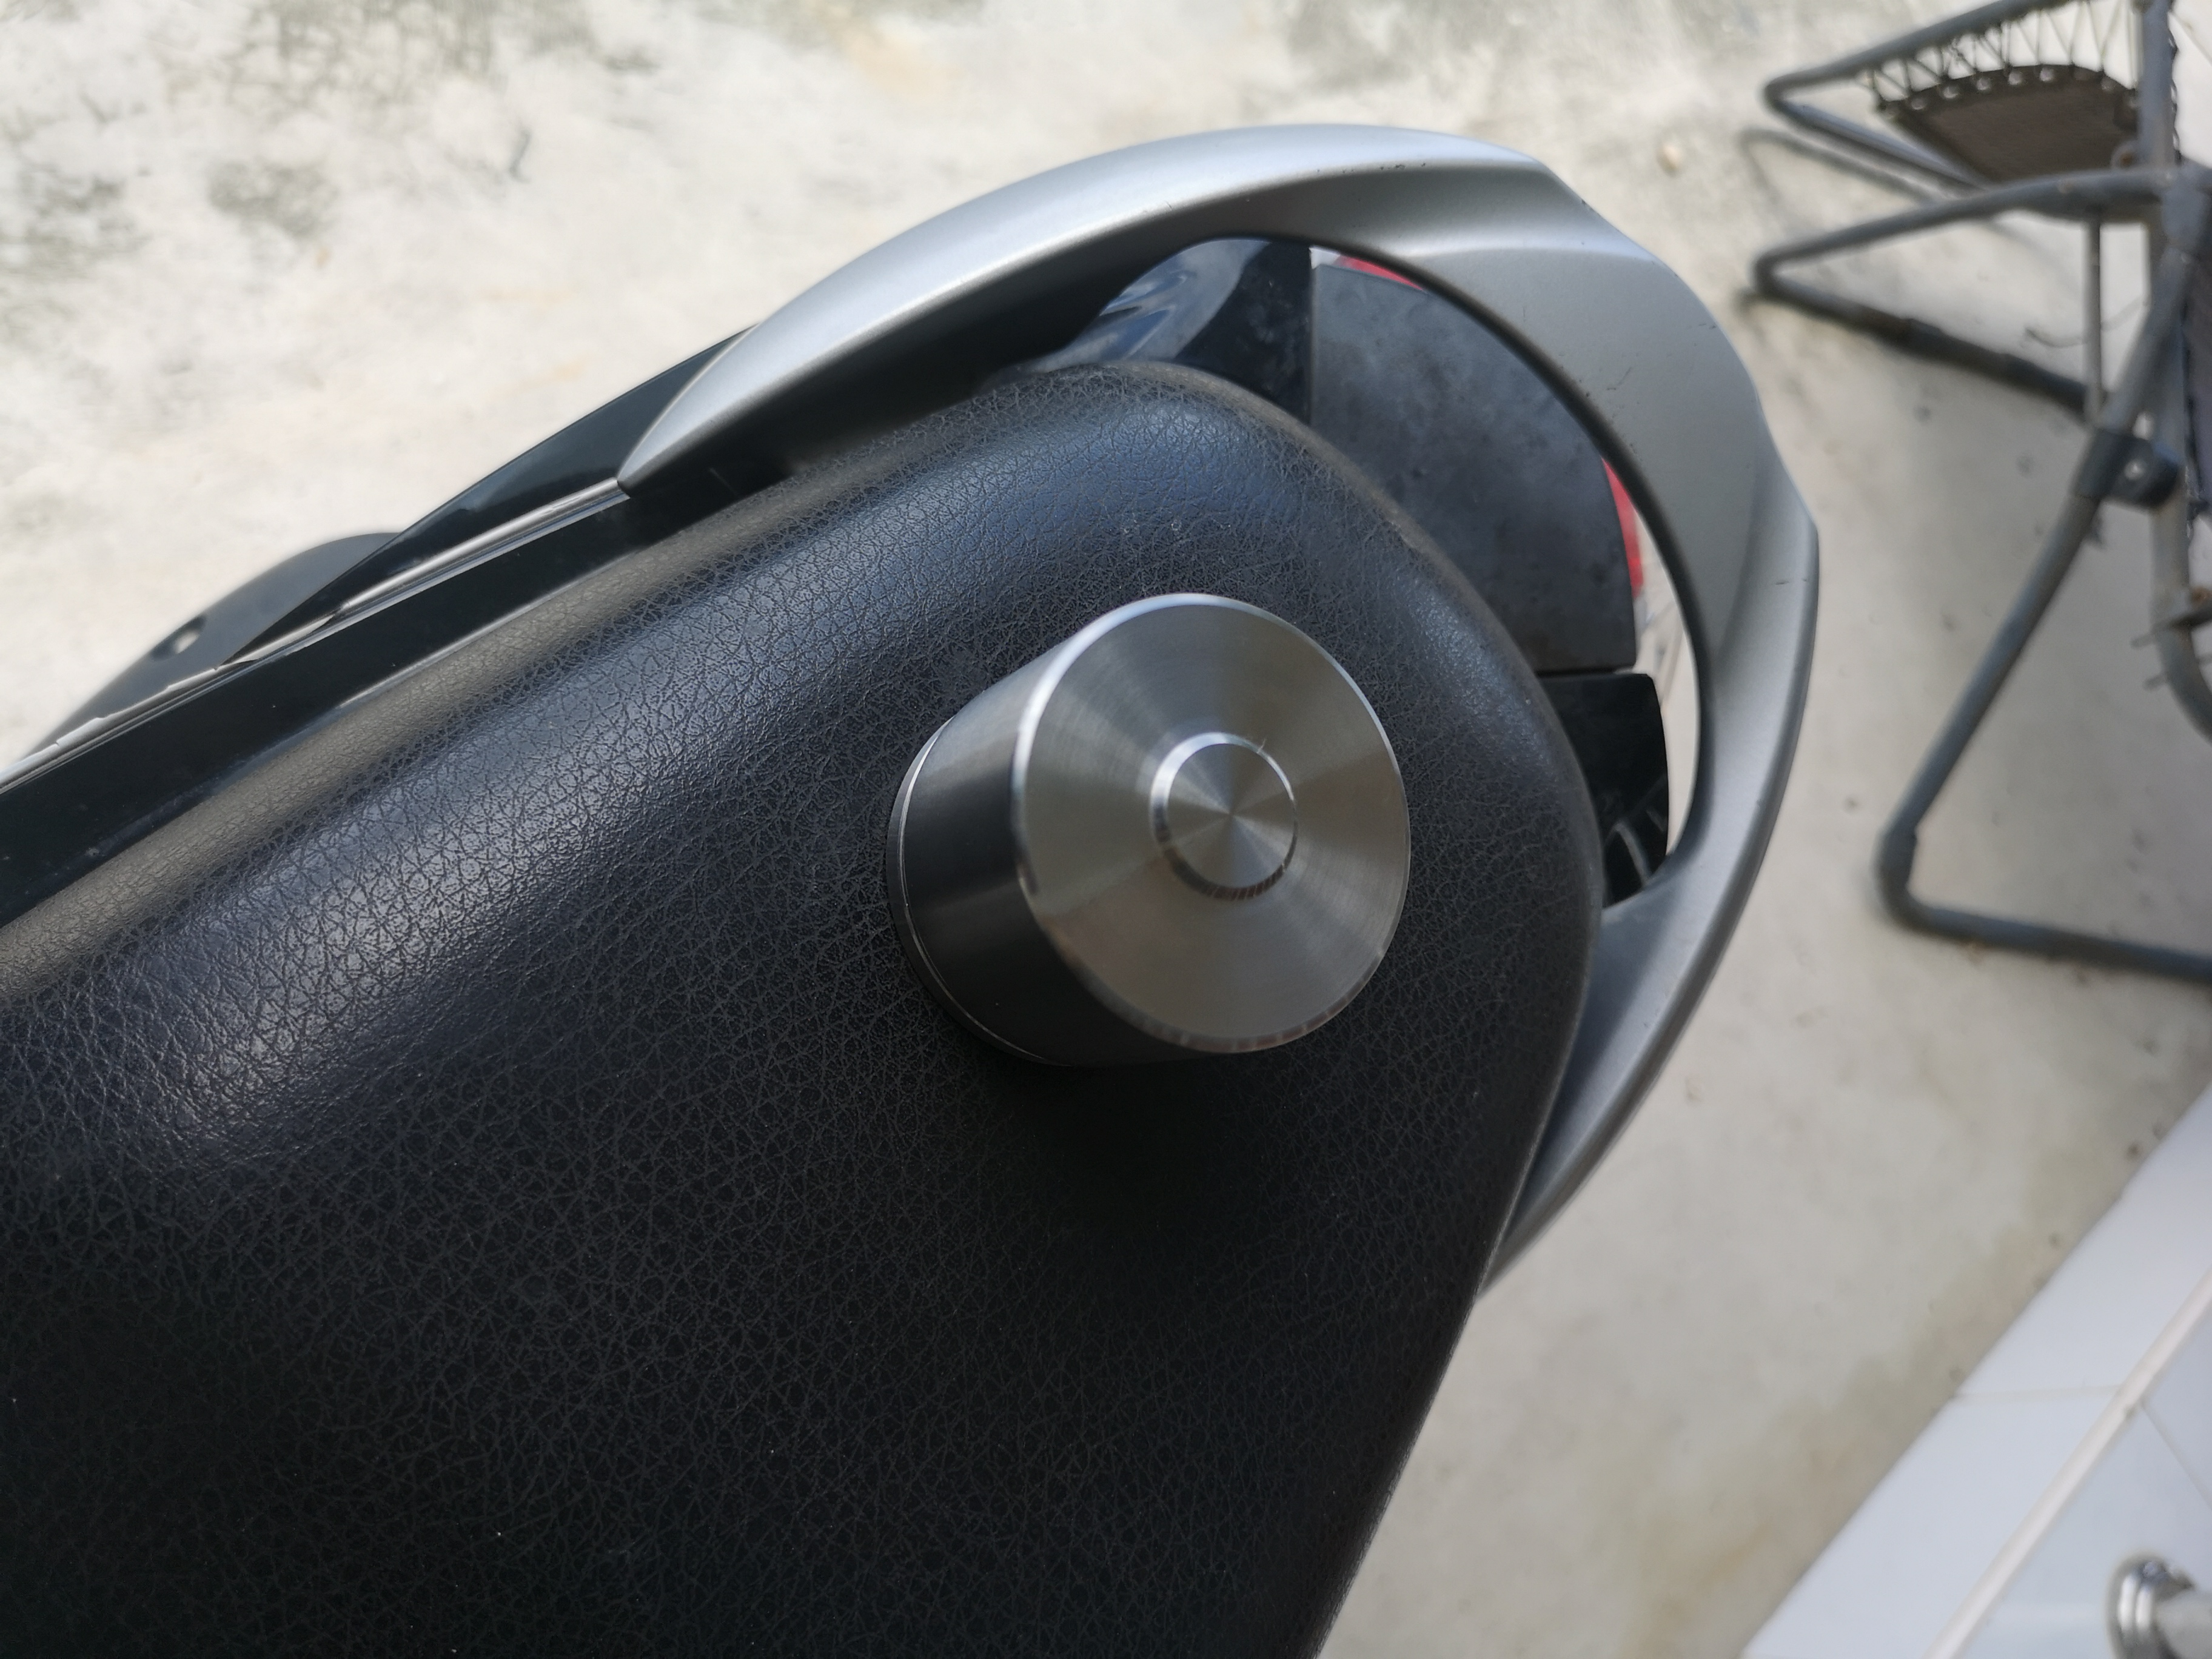ลูกสูบดิสเบรค: (897, 558, 1461, 1122)
